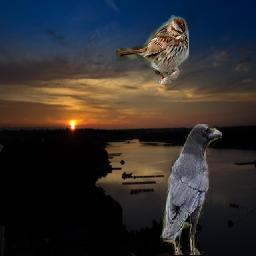Crow: (160, 125, 222, 256)
Sparrow: (117, 16, 190, 85)
